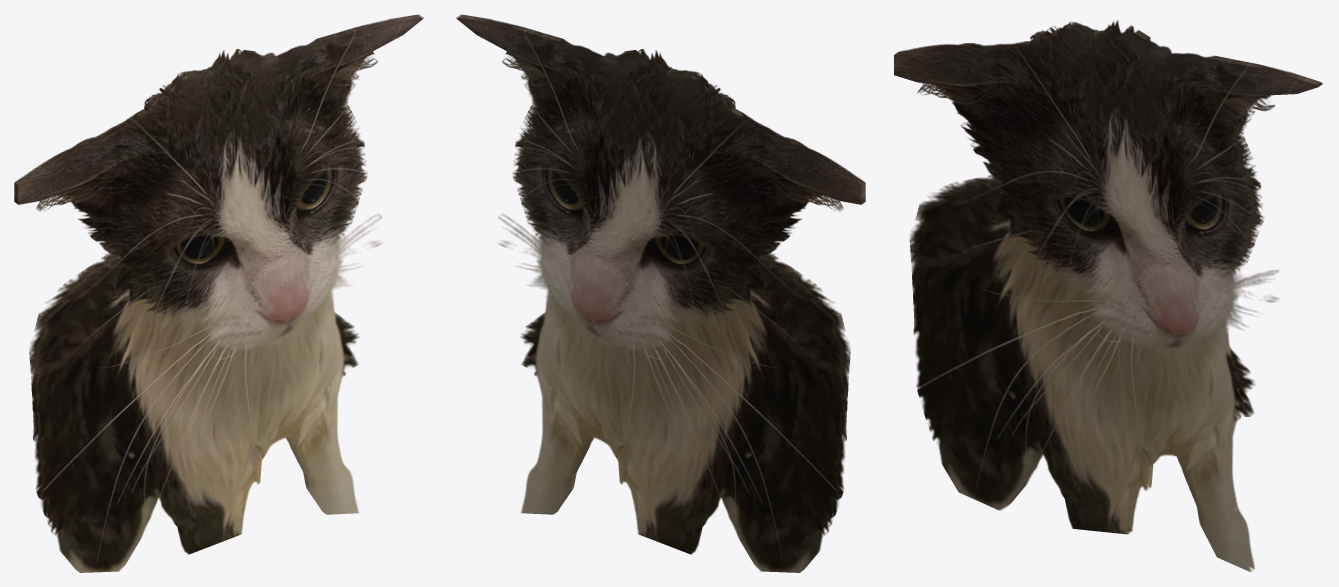
File: sog2.glb
The picture shows the model from 3 angles, left to right: view 1: azimuth 30°, elevation 25°; view 2: azimuth 150°, elevation 25°; view 3: azimuth 330°, elevation 25°; orthographic projection. The views are drawn at different scales.
Parts seen in each view (by area): view 1: sog2-removebg-preview; view 2: sog2-removebg-preview; view 3: sog2-removebg-preview.
Boxes of the visible parts, <box> form: sog2-removebg-preview: <box>14,14,423,572</box>; sog2-removebg-preview: <box>456,14,865,572</box>; sog2-removebg-preview: <box>894,20,1322,572</box>.
Size of the model in its own units: 0.8572 by 1 by 0.015.
1 material, 1 textured.
